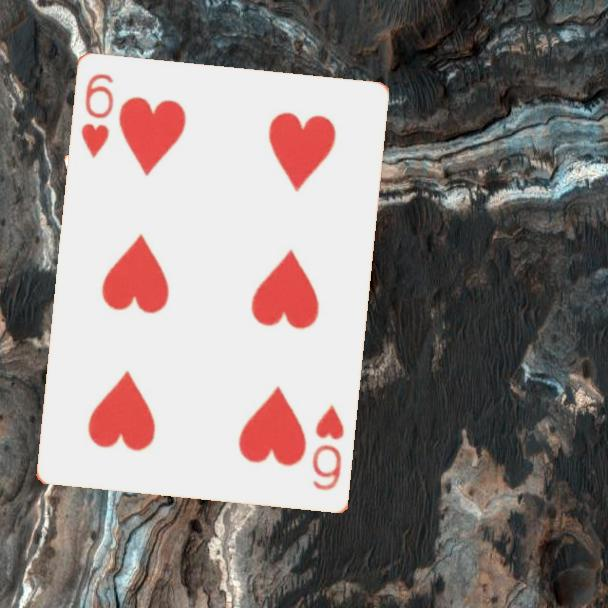h06: (78, 70, 117, 162), (309, 402, 347, 494)
